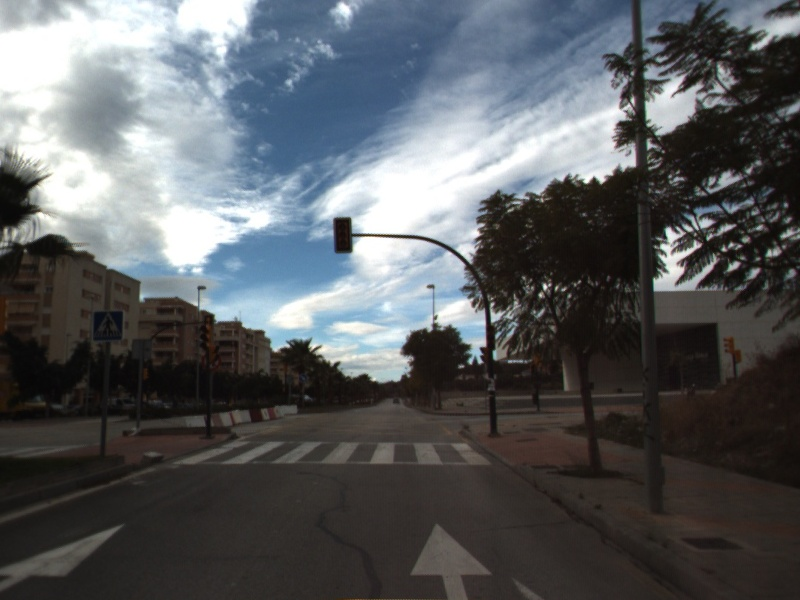STRAIGHT: (1, 521, 128, 594), (408, 521, 495, 600)
